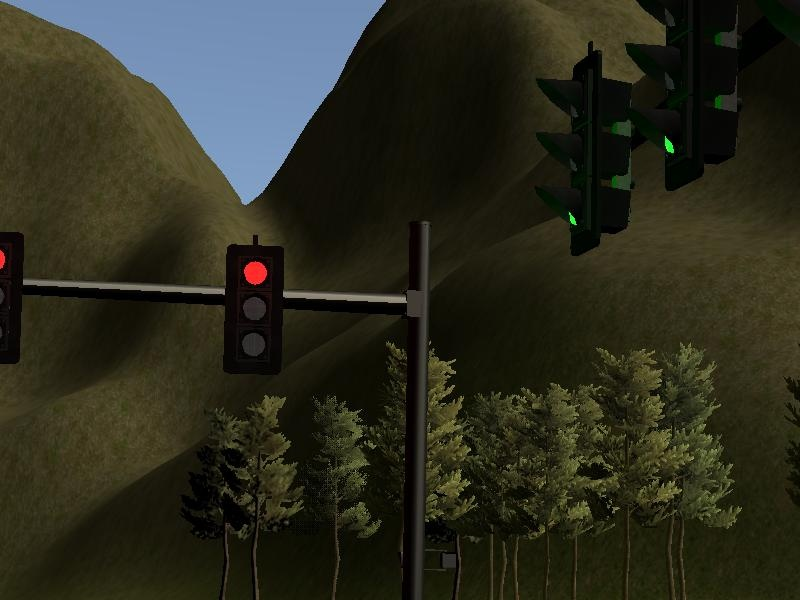RED: (227, 245, 284, 372)
